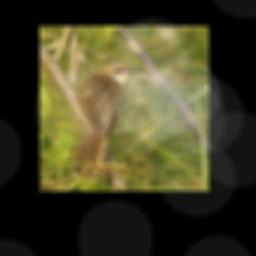Cuckoo: (71, 61, 146, 180)
